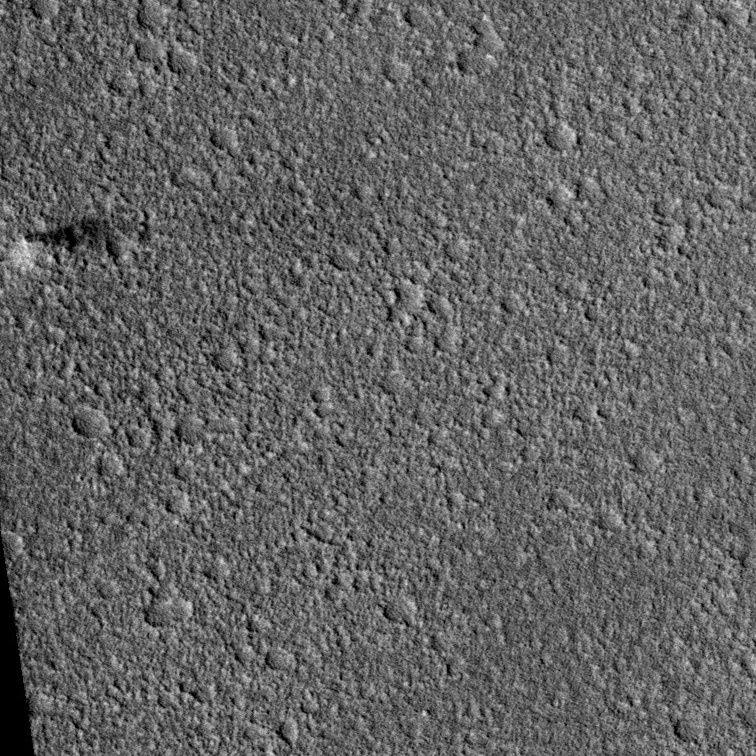dust_devil: (11, 212, 128, 278)
